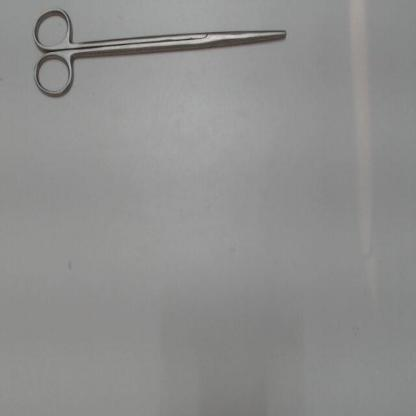9 Metzenbaum Scissors: (26, 4, 291, 104)
